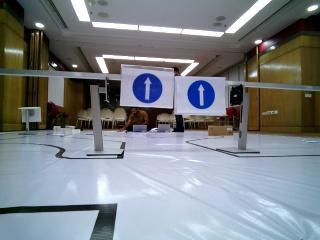straight: (123, 65, 171, 107), (175, 76, 228, 113)
